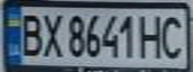1: (115, 11, 139, 58)
4: (100, 11, 121, 58)
6: (81, 11, 103, 58)
8: (63, 11, 87, 57)
B: (15, 10, 45, 57)
C: (157, 11, 190, 60)
H: (136, 11, 166, 60)
X: (39, 10, 66, 58)
